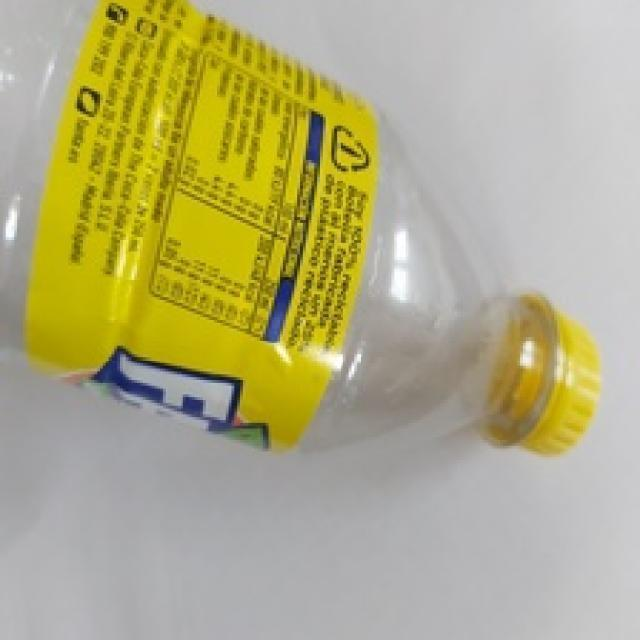Plastic: (0, 0, 610, 454)
